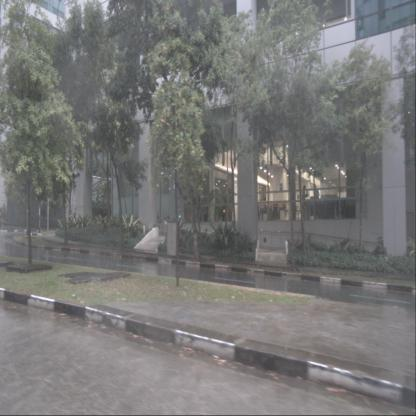human-pedestrian-adult: (302, 185, 309, 219), (314, 184, 320, 219)
